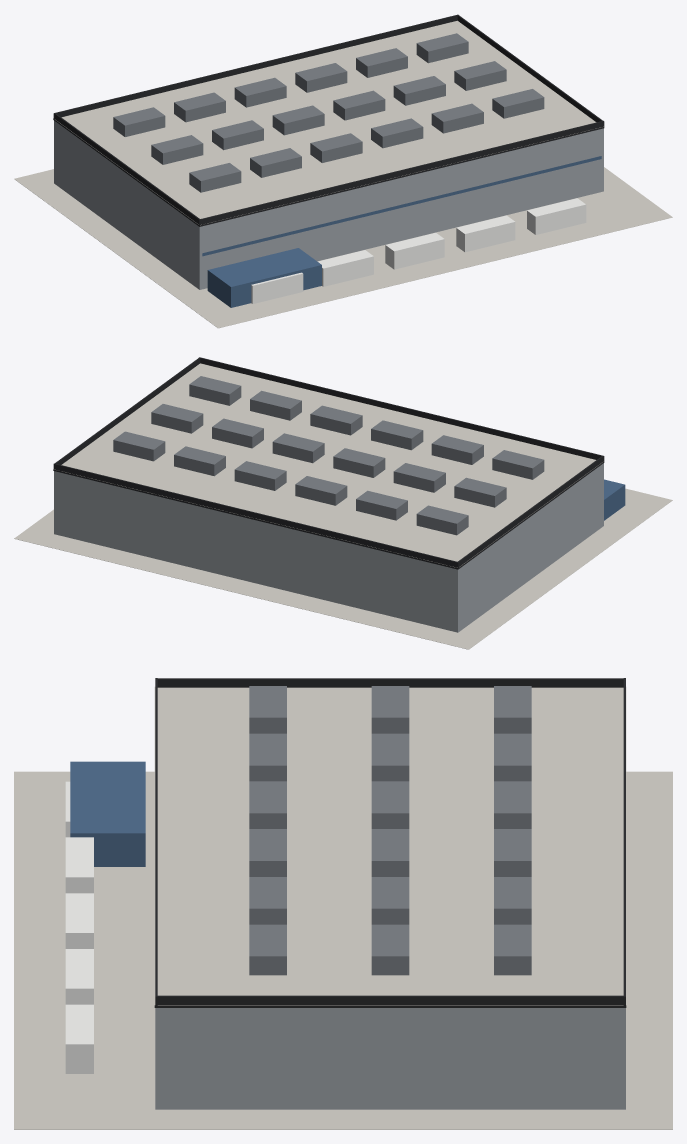
File: data_center.glb
3 views of the same model, one above another, from view 1: azimuth 30°, elevation 25°; view 2: azimuth 150°, elevation 25°; view 3: azimuth 270°, elevation 25° (orthographic). The views are drawn at different scales.
Parts seen in each view (by area): view 1: data_center; view 2: data_center; view 3: data_center.
Boxes of the visible parts, x1,y1,x2,y2 form: data_center: (14,14,672,328); data_center: (14,357,672,649); data_center: (14,678,672,1129).
Bounding box in the file's own units: 90 × 15.2 × 70.
1 material, 1 textured.
